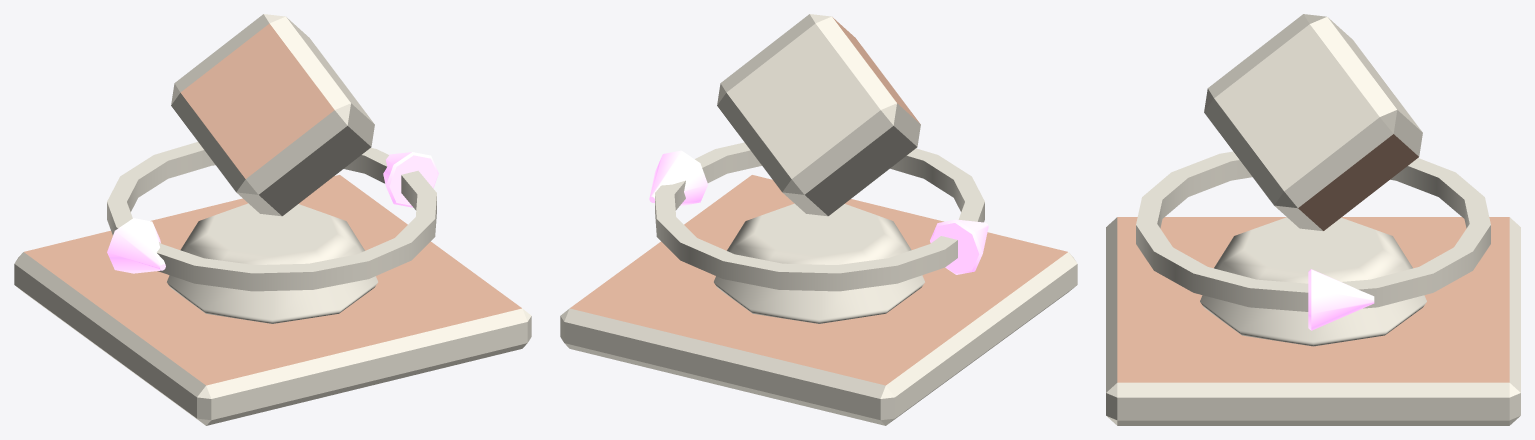
Rendered from R4X_RewardReroll_LOD1.fbx.
3 views of the same model, side by side, from view 1: azimuth 30°, elevation 25°; view 2: azimuth 150°, elevation 25°; view 3: azimuth 270°, elevation 25° (orthographic). The views are drawn at different scales.
Parts seen in each view (by area): view 1: R4X_RewardReroll_LOD1; view 2: R4X_RewardReroll_LOD1; view 3: R4X_RewardReroll_LOD1.
Boxes of the visible parts, bbox=[...] form: R4X_RewardReroll_LOD1: bbox=[14, 14, 531, 425]; R4X_RewardReroll_LOD1: bbox=[560, 14, 1077, 425]; R4X_RewardReroll_LOD1: bbox=[1106, 14, 1520, 425].
Size of the model in its own units: 0.52 by 0.4493 by 0.52.
